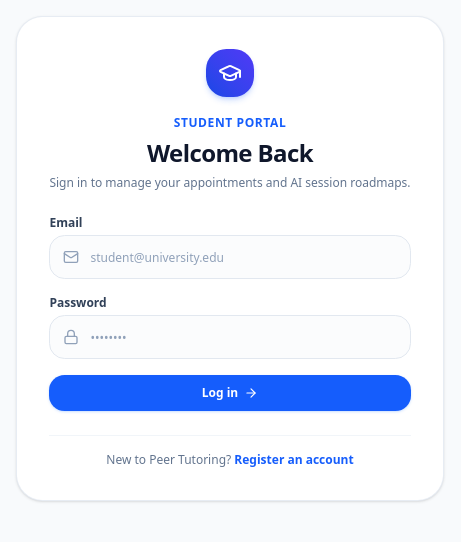
Test: LoginPage › shows the current password validation message without sending a request
This screenshot has width=461, height=542.
Type "student@example.com" into the field labelled "Email".
click(230, 257); type("student@example.com")  # box [49,235,411,279]
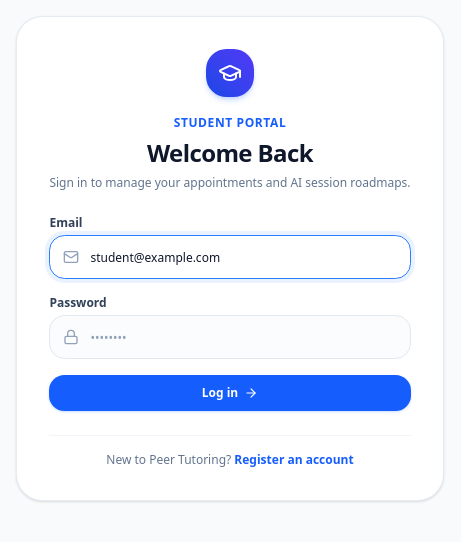
Type "short" into the password field labelled "Password".
click(230, 337); type("short")  # box [49,315,411,359]
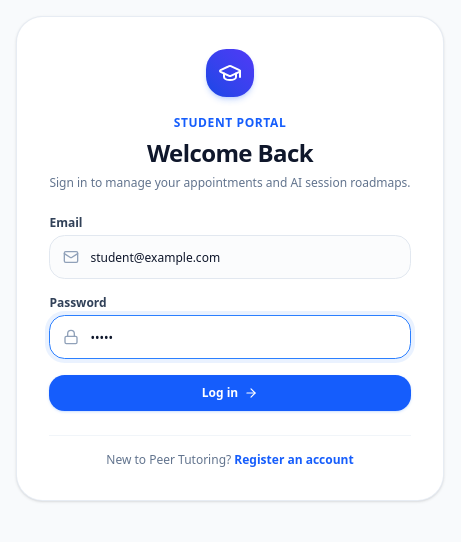
Click the button "Log in".
click(230, 393)  # box [49,375,411,411]
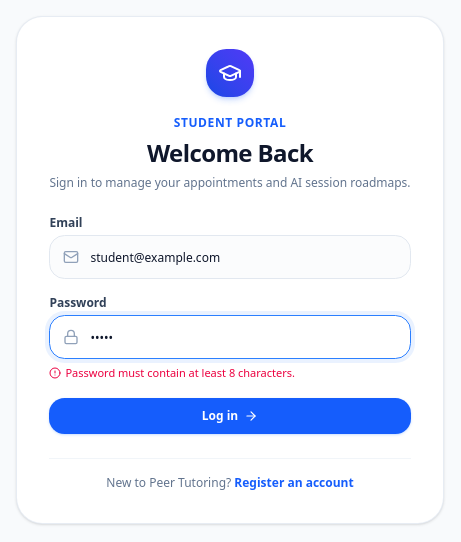
Result: the text "Password must contain at least 8 characters." is shown at [65,365,295,382]
